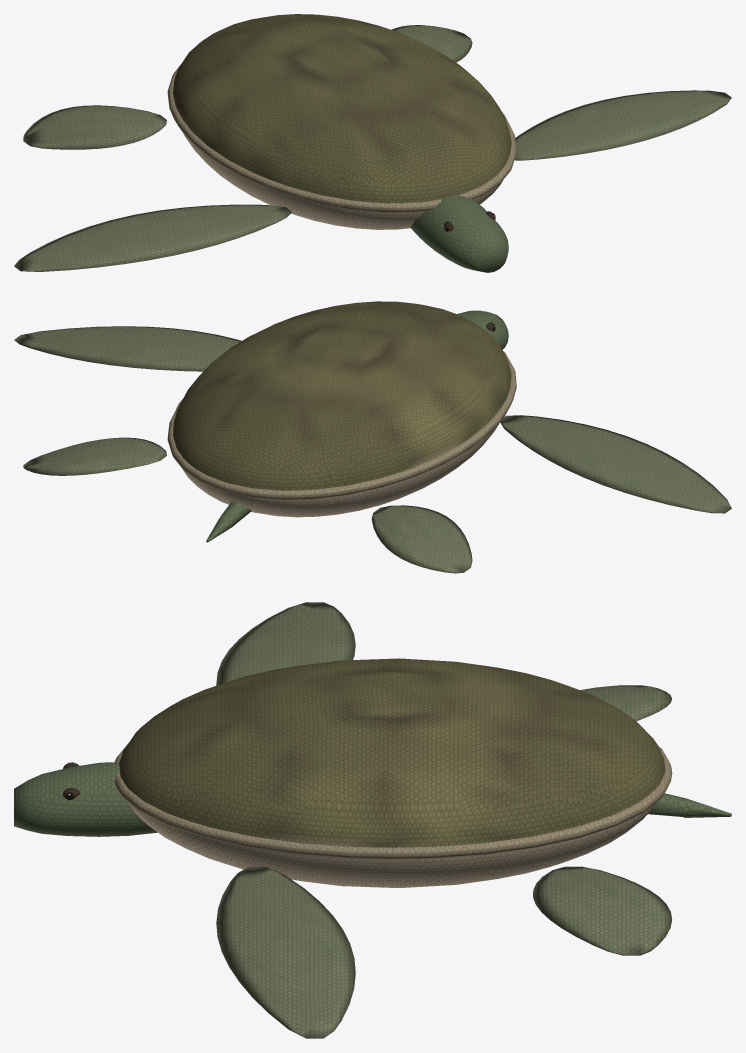
File: green-sea-turtle.glb
3 renders of one model, top to bottom at view 1: azimuth 30°, elevation 25°; view 2: azimuth 150°, elevation 25°; view 3: azimuth 270°, elevation 25°, orthographic. The views are drawn at different scales.
Parts seen in each view (by area): view 1: green-sea-turtle__shell.002, green-sea-turtle__flipper_mesh_0.002, green-sea-turtle__flipper_mesh_1.002, green-sea-turtle__head.002, green-sea-turtle__flipper_mesh_2.002, green-sea-turtle__flipper_mesh_3.002; view 2: green-sea-turtle__shell.002, green-sea-turtle__flipper_mesh_0.002, green-sea-turtle__flipper_mesh_1.002, green-sea-turtle__flipper_mesh_2.002, green-sea-turtle__flipper_mesh_3.002, green-sea-turtle__head.002; view 3: green-sea-turtle__shell.002, green-sea-turtle__flipper_mesh_1.002, green-sea-turtle__flipper_mesh_3.002, green-sea-turtle__head.002, green-sea-turtle__flipper_mesh_0.002, green-sea-turtle__flipper_mesh_2.002.
Part boxes in pixels (x1,y1,x2,y2): green-sea-turtle__shell.002: [167, 14, 516, 229]; green-sea-turtle__flipper_mesh_0.002: [14, 204, 291, 271]; green-sea-turtle__flipper_mesh_1.002: [514, 90, 731, 160]; green-sea-turtle__head.002: [410, 194, 508, 272]; green-sea-turtle__flipper_mesh_2.002: [23, 105, 166, 149]; green-sea-turtle__flipper_mesh_3.002: [391, 25, 472, 62]; green-sea-turtle__shell.002: [167, 301, 516, 517]; green-sea-turtle__flipper_mesh_0.002: [500, 415, 731, 513]; green-sea-turtle__flipper_mesh_1.002: [14, 326, 241, 371]; green-sea-turtle__flipper_mesh_2.002: [371, 505, 472, 573]; green-sea-turtle__flipper_mesh_3.002: [23, 437, 166, 475]; green-sea-turtle__head.002: [457, 310, 508, 349]; green-sea-turtle__shell.002: [114, 658, 672, 887]; green-sea-turtle__flipper_mesh_1.002: [216, 866, 355, 1038]; green-sea-turtle__flipper_mesh_3.002: [533, 866, 672, 955]; green-sea-turtle__head.002: [14, 762, 157, 836]; green-sea-turtle__flipper_mesh_0.002: [216, 602, 355, 685]; green-sea-turtle__flipper_mesh_2.002: [580, 685, 671, 721].
Bounding box in the file's own units: 2.68 × 0.4699 × 1.86.
2 materials, 1 textured.
